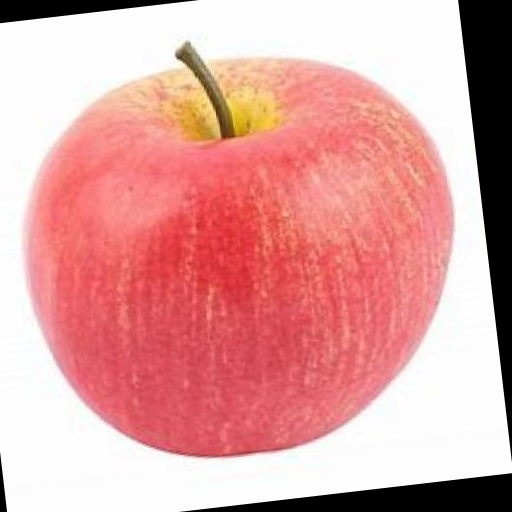fruit: (26, 59, 452, 456)
